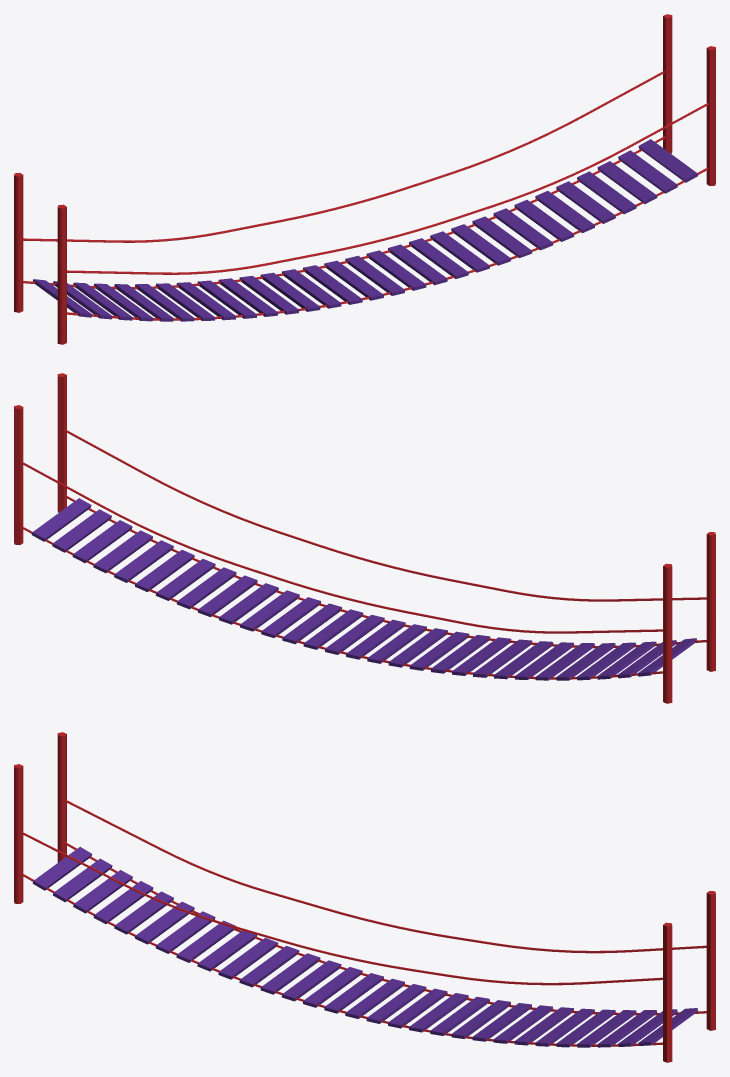
Rendered from puente.fbx.
3 views of the same model, one above another, from view 1: azimuth 30°, elevation 25°; view 2: azimuth 150°, elevation 25°; view 3: azimuth 330°, elevation 25° (orthographic).
Parts seen in each view (by area): view 1: Box003, Cylinder008; view 2: Box003, Cylinder008; view 3: Box003, Cylinder008.
Boxes of the visible parts, x1,y1,x2,y2 form: Box003: [33, 139, 698, 321]; Cylinder008: [14, 14, 715, 344]; Box003: [31, 498, 696, 680]; Cylinder008: [14, 373, 715, 703]; Box003: [32, 847, 697, 1047]; Cylinder008: [14, 732, 715, 1062].
Size of the model in its own units: 1518 by 371 by 193.
